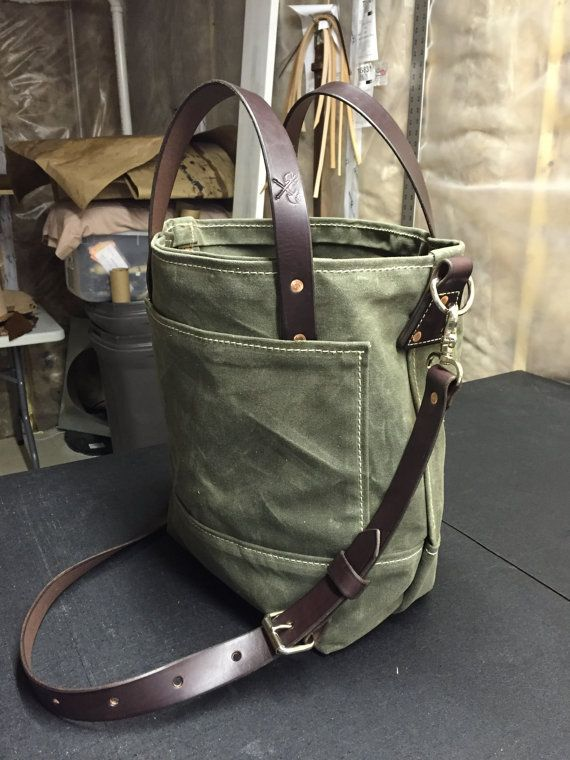nylon: (144, 216, 466, 656)
